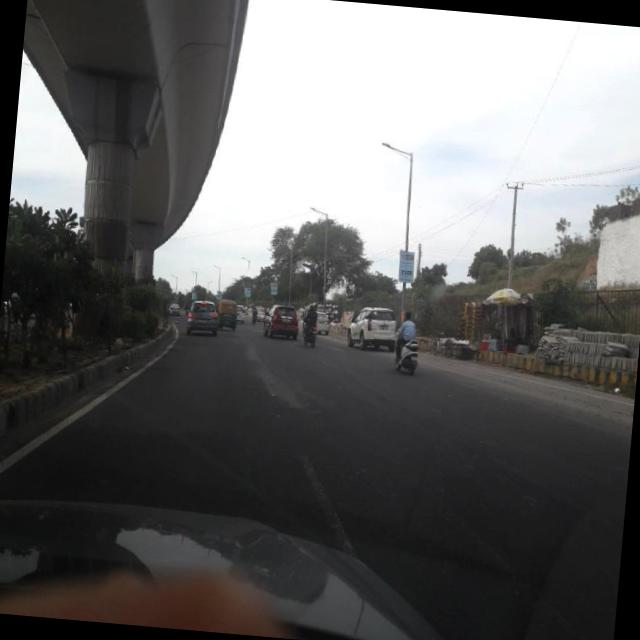crack: (220, 345, 328, 428)
pothole: (422, 494, 595, 640)
